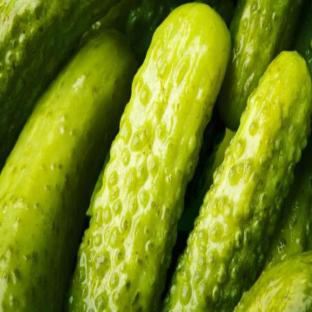Cucumber: (68, 4, 230, 311), (0, 32, 136, 311), (165, 52, 311, 311), (0, 0, 118, 169), (178, 115, 234, 232), (264, 139, 311, 269), (235, 252, 311, 311), (86, 152, 109, 217)
